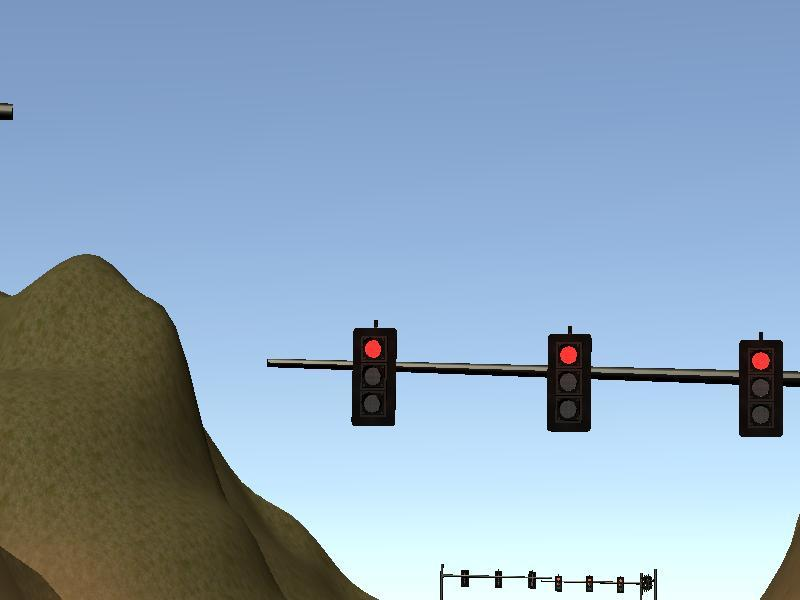Red: (352, 329, 395, 427), (739, 339, 782, 437), (547, 334, 590, 432), (585, 575, 594, 594), (616, 576, 624, 594), (554, 574, 561, 592)
